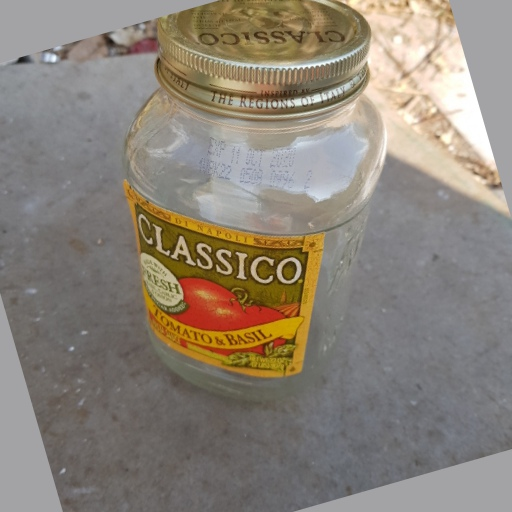Glass_5: (124, 1, 388, 397)
